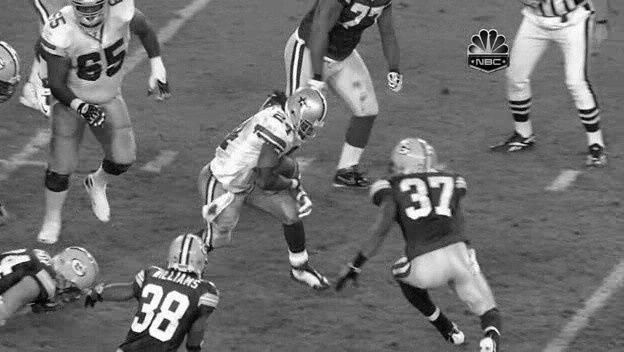person: (289, 92, 324, 137), (288, 92, 323, 137), (290, 92, 325, 137), (289, 91, 324, 136), (289, 93, 324, 138)
target_negative: (410, 244, 577, 285), (101, 312, 377, 336), (561, 192, 577, 350), (31, 11, 36, 128), (196, 337, 218, 351), (600, 341, 602, 351)
